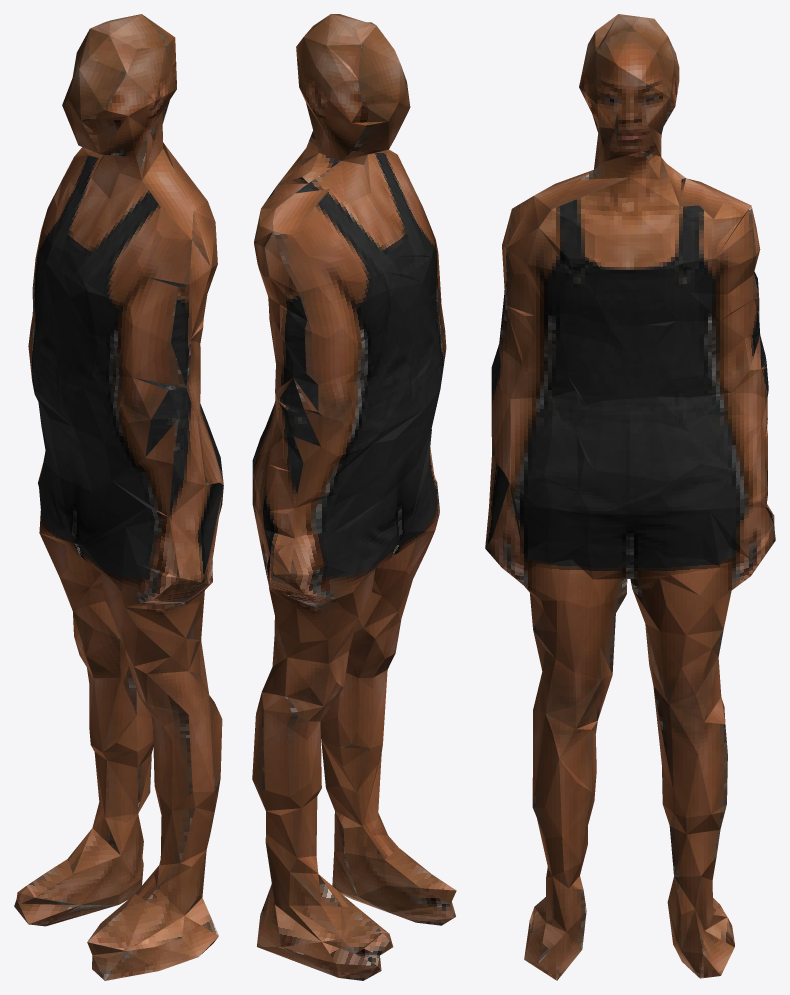
File: mujer_4.glb
3 renders of one model, left to right at view 1: azimuth 30°, elevation 25°; view 2: azimuth 150°, elevation 25°; view 3: azimuth 270°, elevation 25°, orthographic. The views are drawn at different scales.
Visible parts, largest first — view 1: personaje.base.cuerpo_comun; view 2: personaje.base.cuerpo_comun; view 3: personaje.base.cuerpo_comun.
Boxes of the visible parts, x1,y1,x2,y2 form: personaje.base.cuerpo_comun: (14,14,223,980); personaje.base.cuerpo_comun: (252,14,456,980); personaje.base.cuerpo_comun: (485,14,775,980).
Bounding box in the file's own units: 0.2734 × 1.71 × 0.4741.
Materials: 1 (1 with a texture image).
